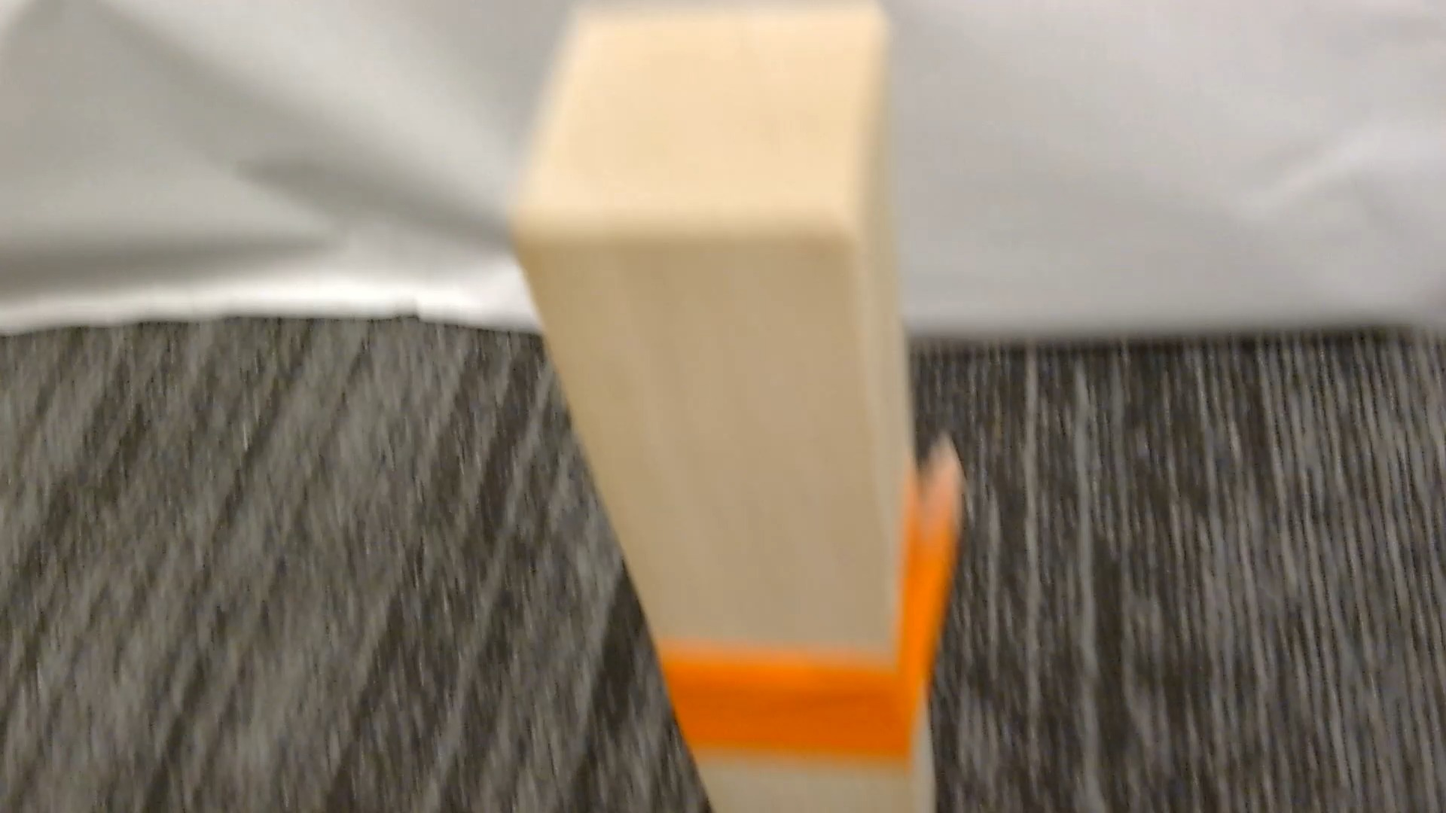Wooden Block: (511, 0, 962, 812)
